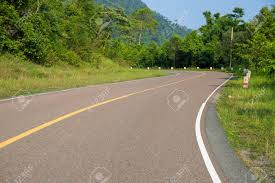strada: (3, 67, 256, 181)
